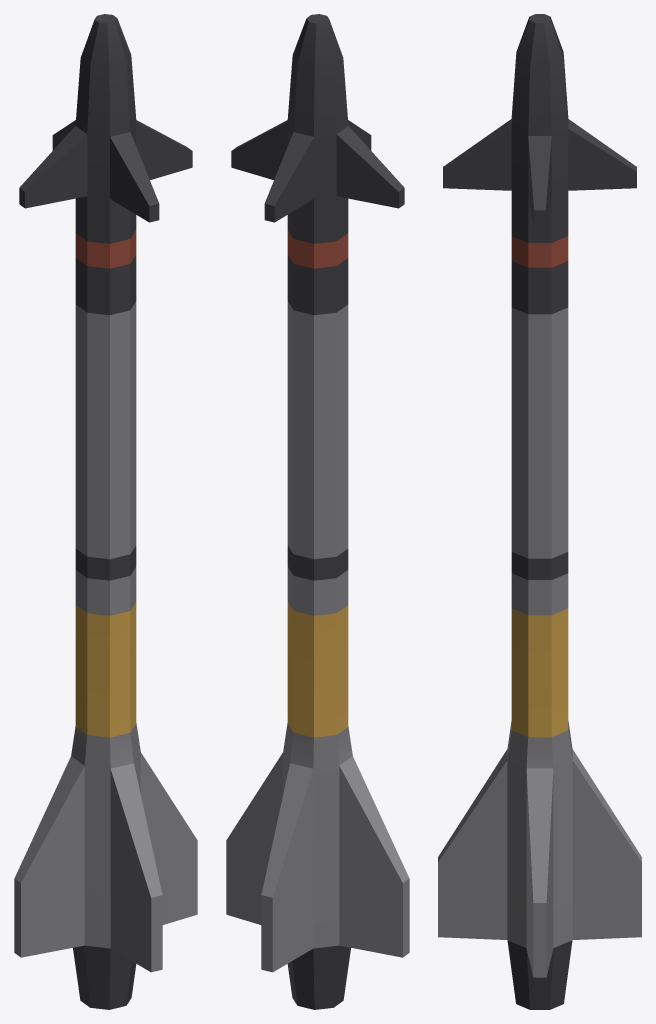
File: SM_Prop_Missile_02.fbx
3 renders of one model, left to right at view 1: azimuth 30°, elevation 25°; view 2: azimuth 150°, elevation 25°; view 3: azimuth 270°, elevation 25°, orthographic.
Visible parts, largest first — view 1: SM_Prop_Missile_02_LOD0; view 2: SM_Prop_Missile_02_LOD0; view 3: SM_Prop_Missile_02_LOD0.
Part boxes in pixels (x1,y1,x2,y2): SM_Prop_Missile_02_LOD0: (14, 14, 197, 1009); SM_Prop_Missile_02_LOD0: (226, 14, 409, 1009); SM_Prop_Missile_02_LOD0: (438, 14, 641, 1009).
Size of the model in its own units: 33.65 by 33.65 by 179.
Materials: 1 (1 with a texture image).
